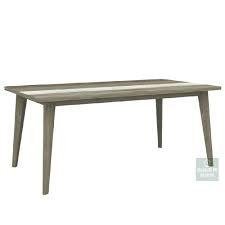desk: (0, 49, 216, 195)
